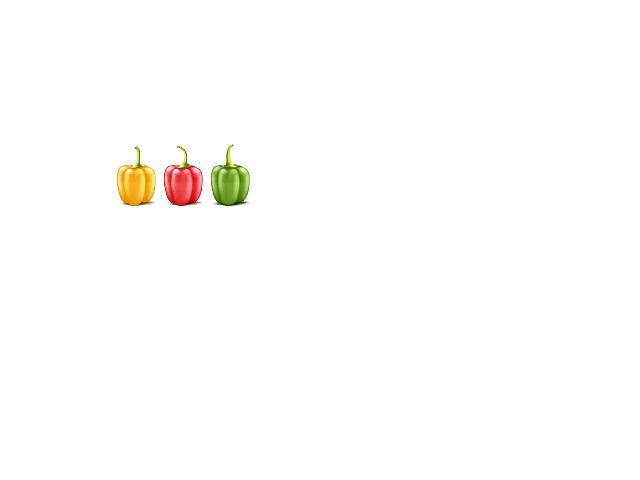bell_pepper: (211, 144, 254, 208)
